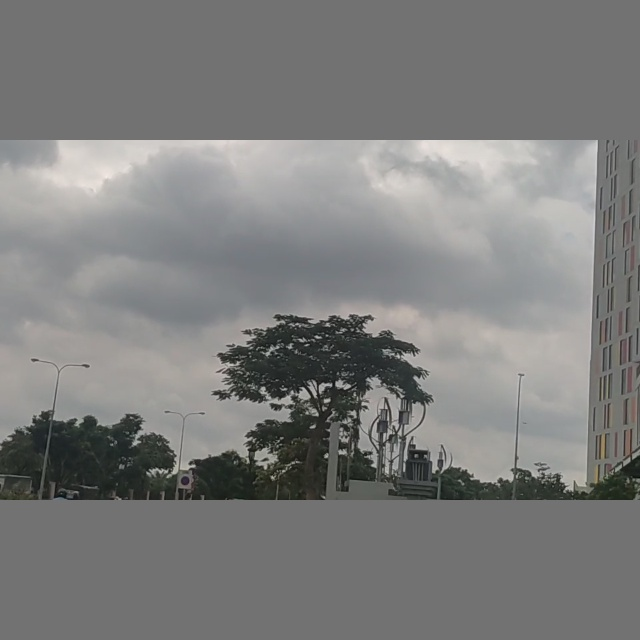P.130: (181, 475, 190, 487)
